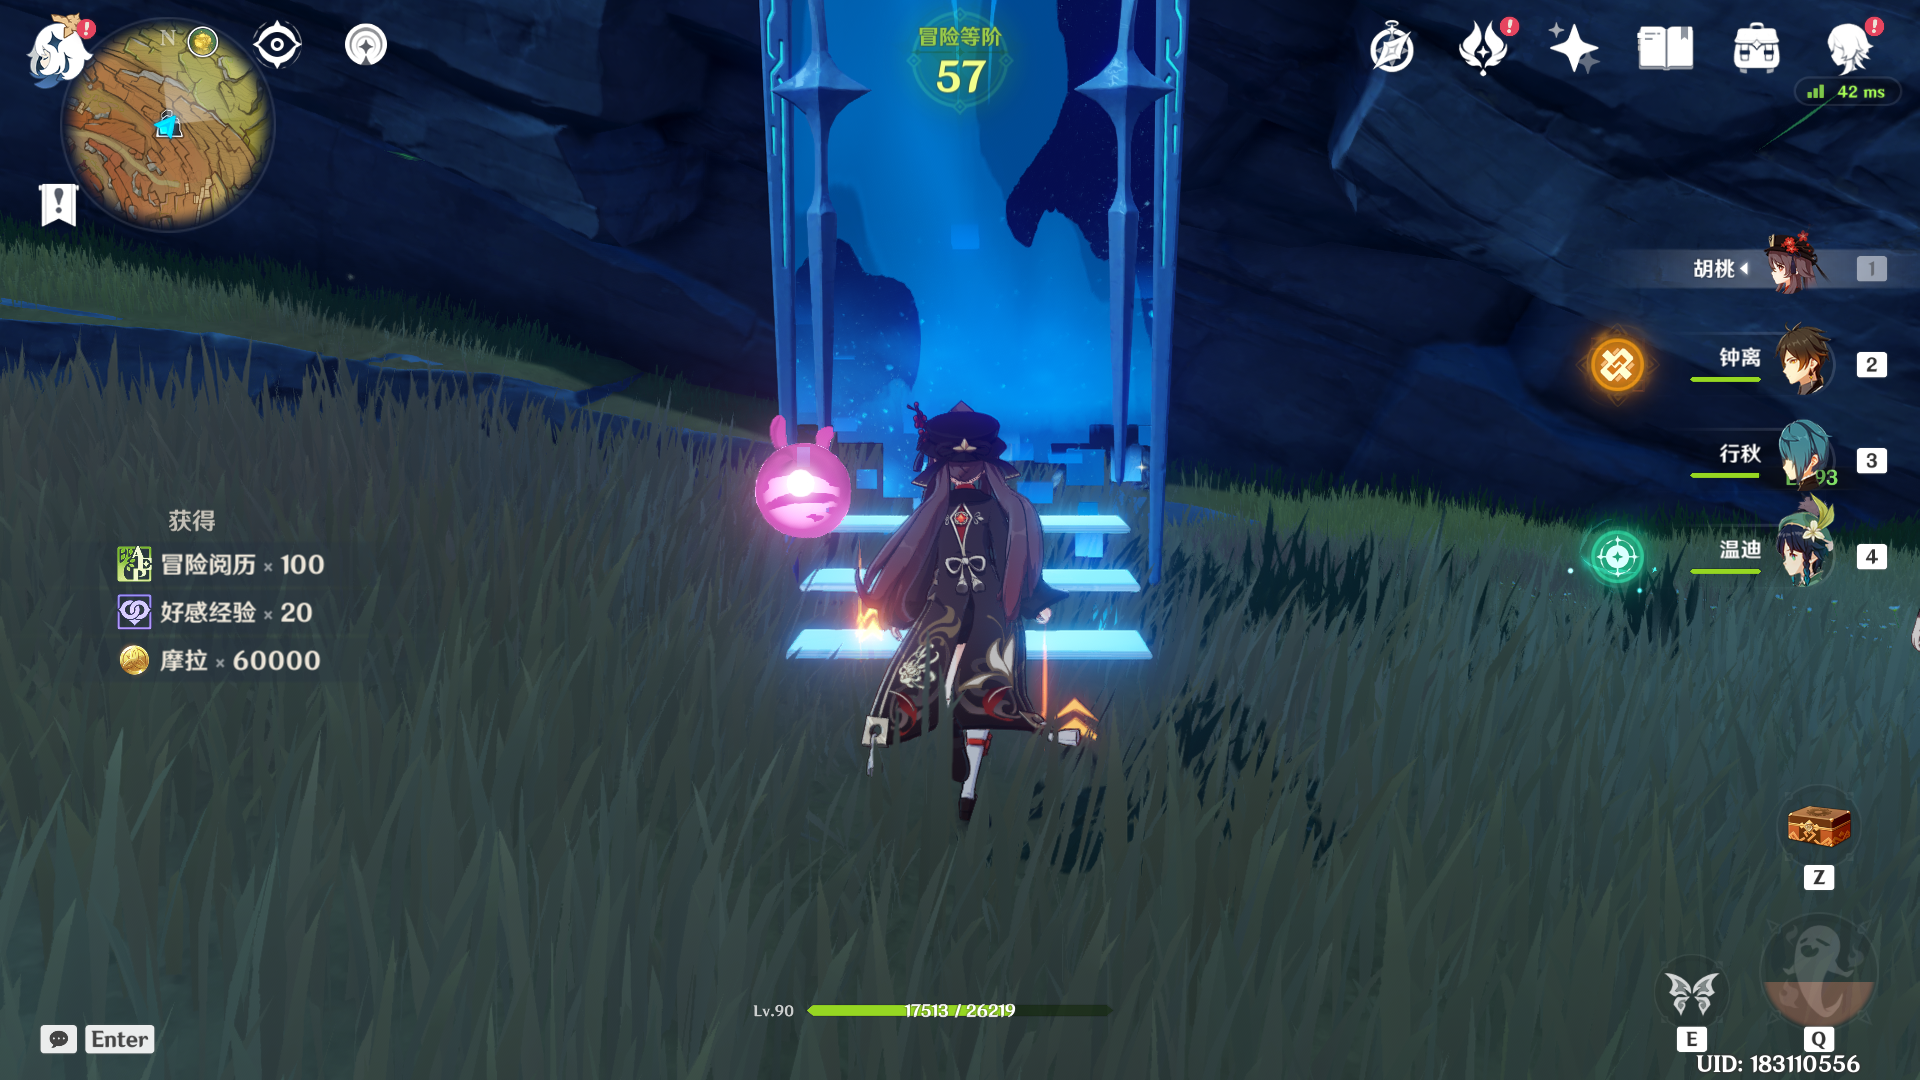character: (808, 378, 1130, 845)
